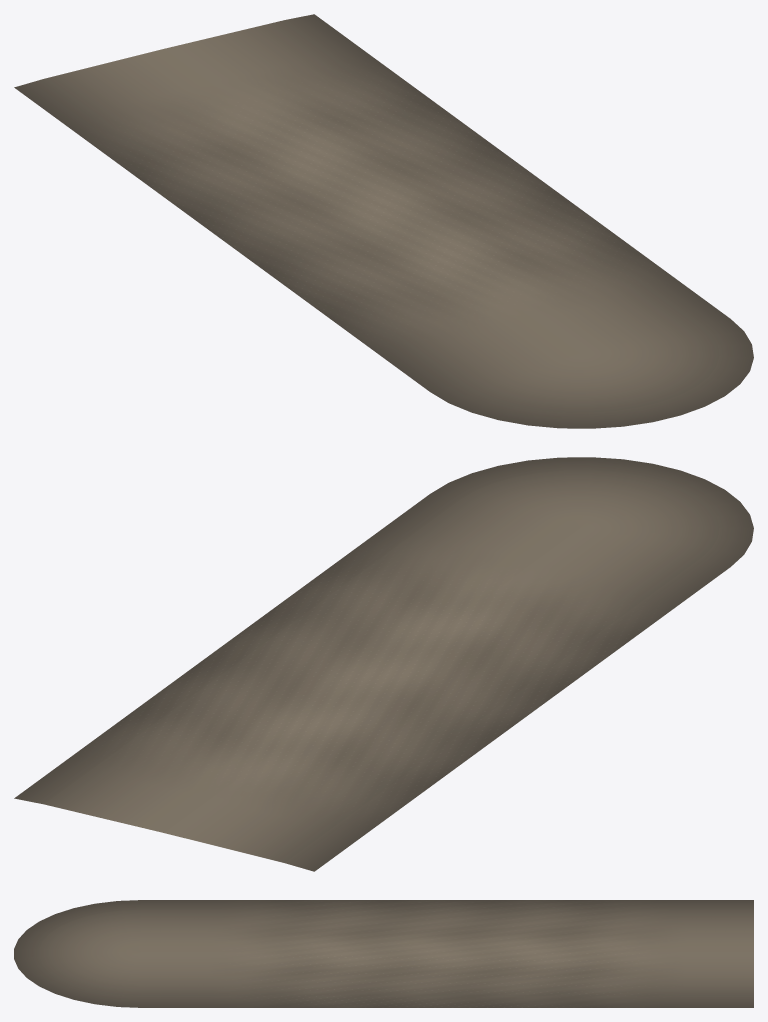
Rendered from hex_path_end.glb.
The picture shows the model from 3 angles, top to bottom: view 1: azimuth 30°, elevation 25°; view 2: azimuth 150°, elevation 25°; view 3: azimuth 270°, elevation 25°; orthographic projection. The views are drawn at different scales.
Parts seen in each view (by area): view 1: Independent painted path ribbon; view 2: Independent painted path ribbon; view 3: Independent painted path ribbon.
Part boxes in pixels (x1=…): Independent painted path ribbon: x1=14, y1=14, x2=753, y2=428; Independent painted path ribbon: x1=14, y1=457, x2=753, y2=871; Independent painted path ribbon: x1=14, y1=900, x2=753, y2=1007.
Size of the model in its own units: 0.92 by 0.006 by 2.67.
Materials: 1 (1 with a texture image).
